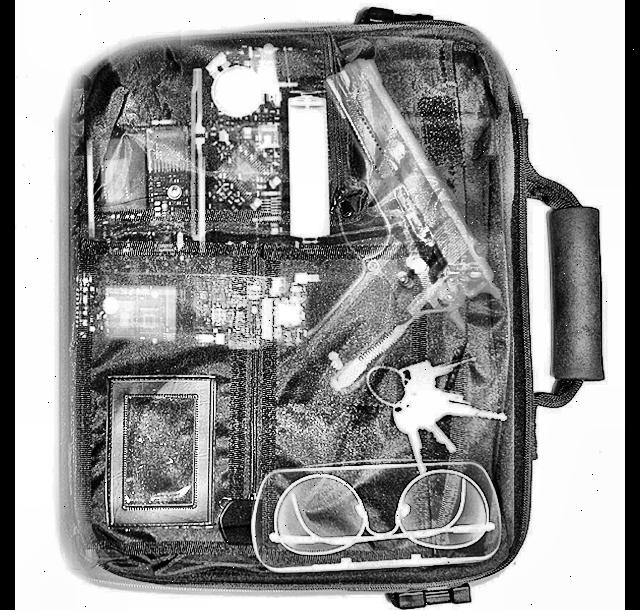Gun: (296, 49, 494, 395)
